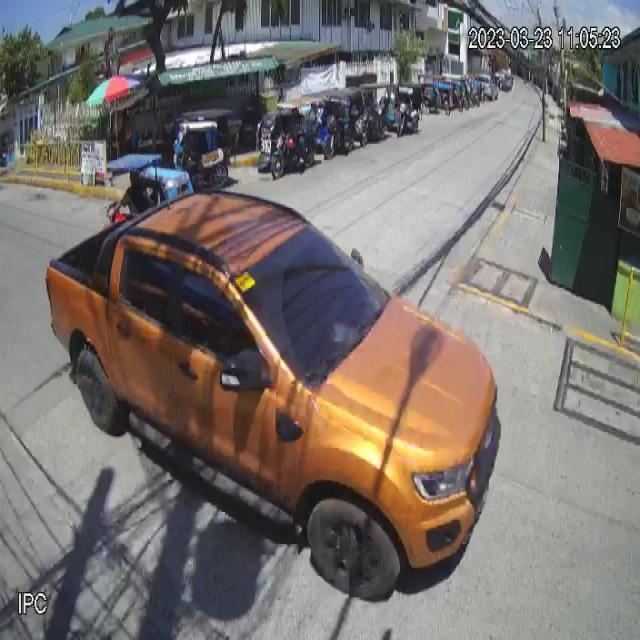Car: (44, 186, 502, 600)
